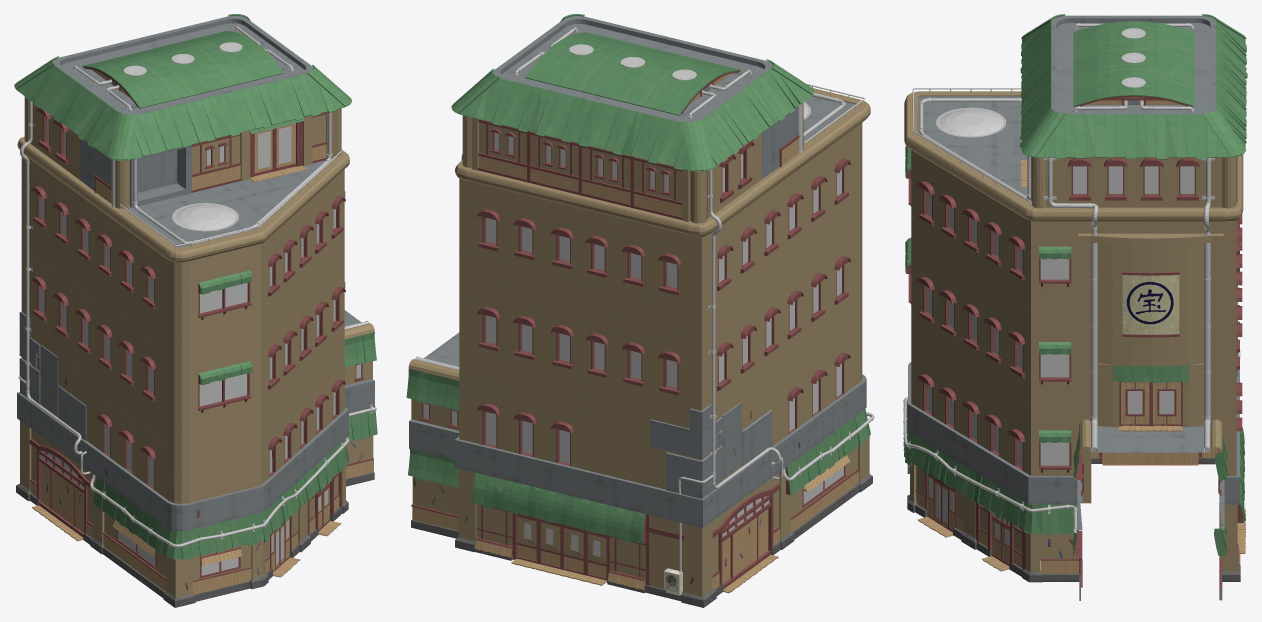
File: SM_ENV_KNVLLG_AreaG_Building_A.fbx
3 renders of one model, left to right at view 1: azimuth 30°, elevation 25°; view 2: azimuth 150°, elevation 25°; view 3: azimuth 270°, elevation 25°, orthographic. The views are drawn at different scales.
Visible parts, largest first — view 1: SM_ENV_KNVLLG_AreaG_Building_A.mo; view 2: SM_ENV_KNVLLG_AreaG_Building_A.mo; view 3: SM_ENV_KNVLLG_AreaG_Building_A.mo.
Part boxes in pixels (x1,y1,x2,y2): SM_ENV_KNVLLG_AreaG_Building_A.mo: [14, 14, 377, 607]; SM_ENV_KNVLLG_AreaG_Building_A.mo: [406, 14, 874, 607]; SM_ENV_KNVLLG_AreaG_Building_A.mo: [903, 14, 1247, 600].
Bounding box in the file's own units: 4199 × 6130 × 4109.
